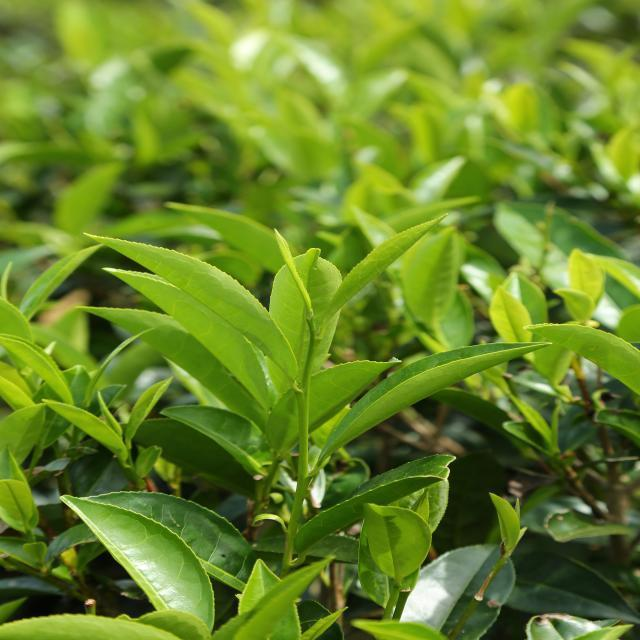Stem: (297, 389, 309, 403)
